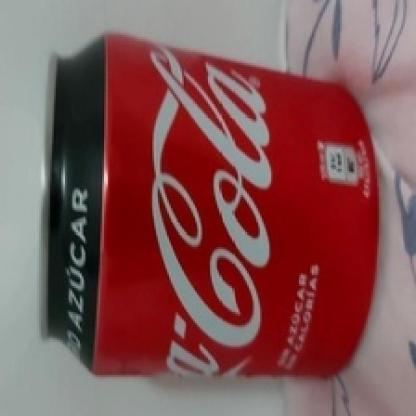Can: (37, 30, 377, 378), (0, 0, 1, 1)
